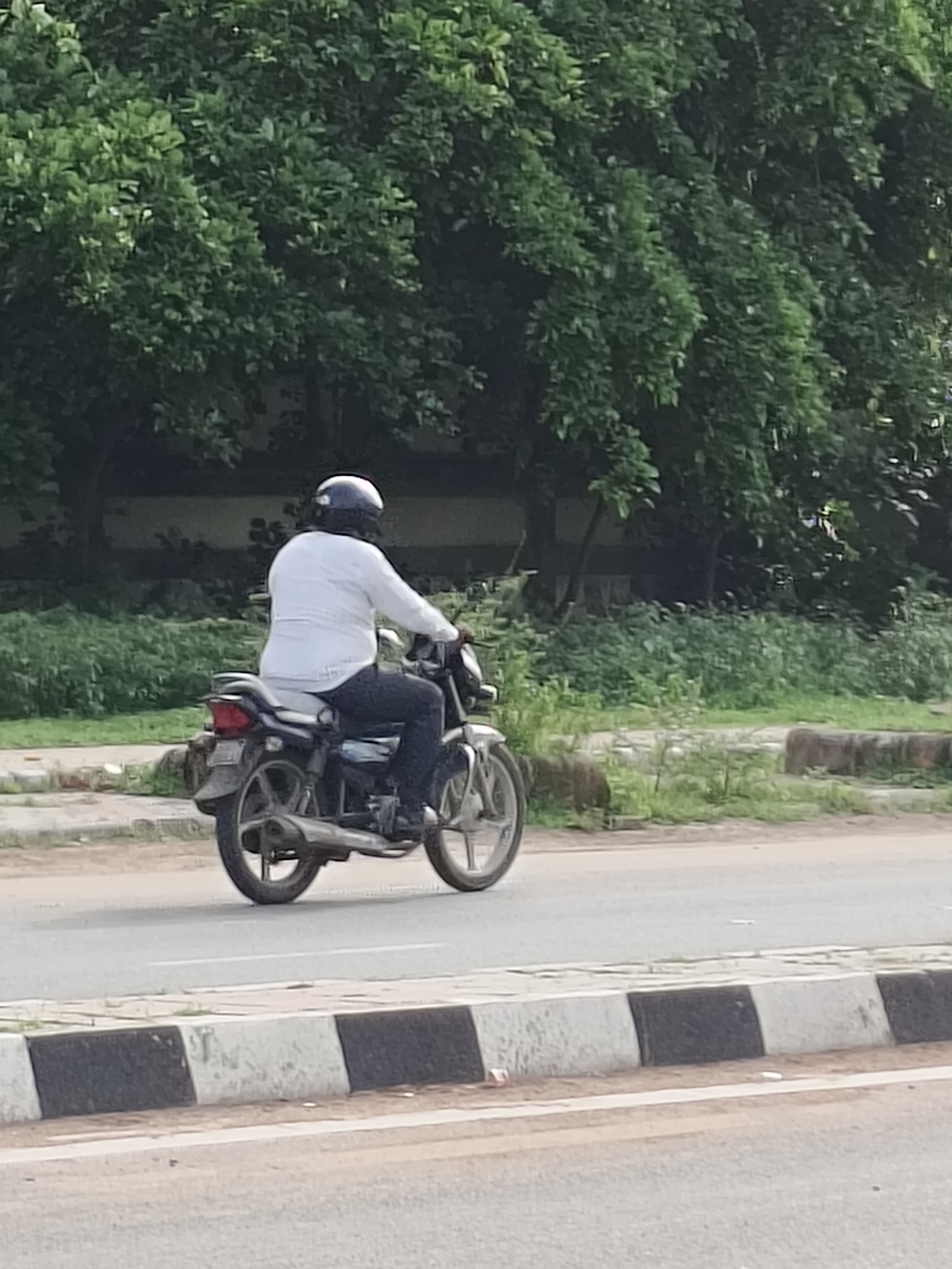BikeWithRider: (170, 465, 541, 915)
Helmet: (296, 468, 394, 553)
